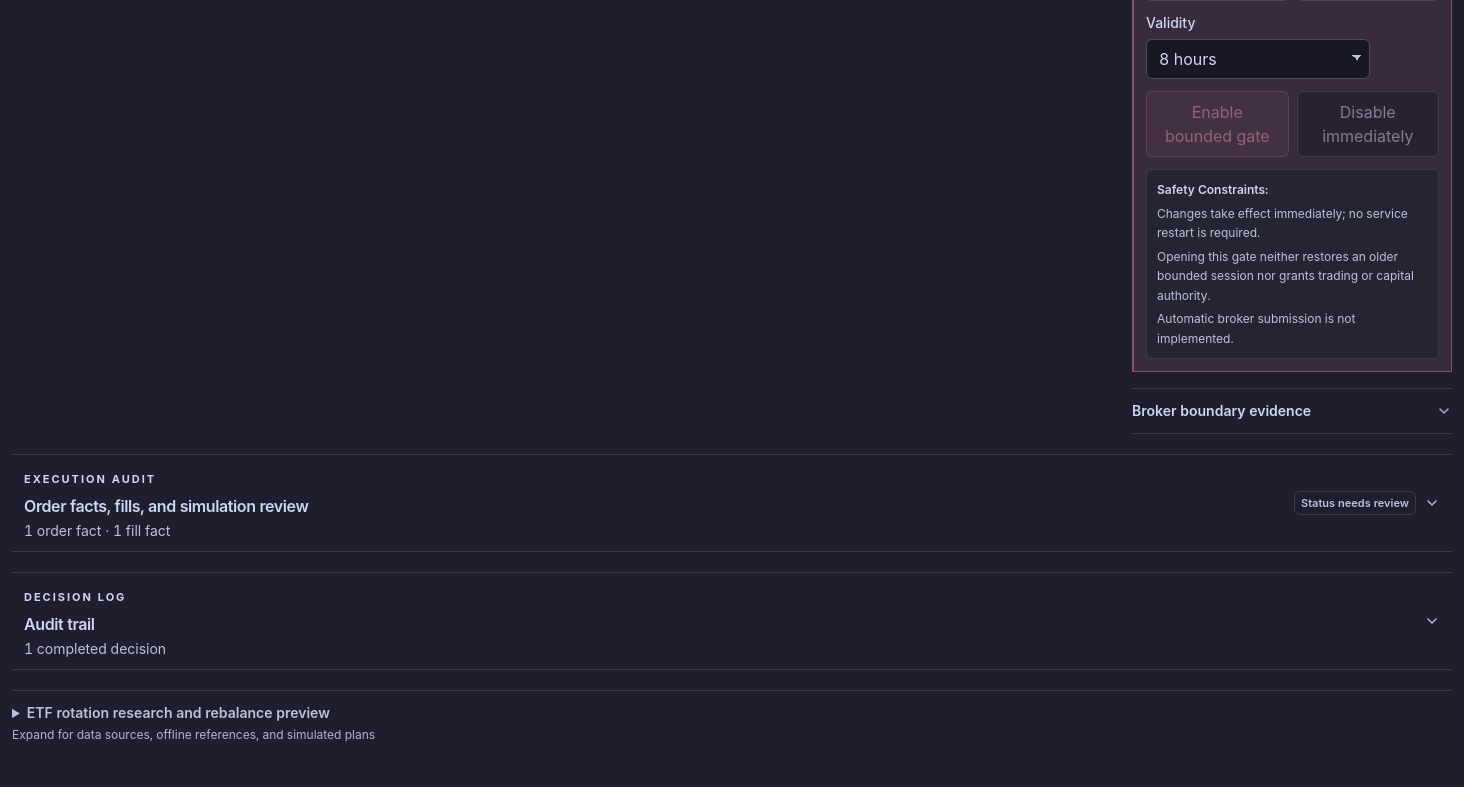
Test: runs daily simulation review from the execution audit panel
(page scrolled)
Expected: the text "Execution audit" is shown, [24,474,156,485]
Step 1. Click the heading that starts with "Execution audit" → {"x": 90, "y": 479}, box [12,455,1452,551]
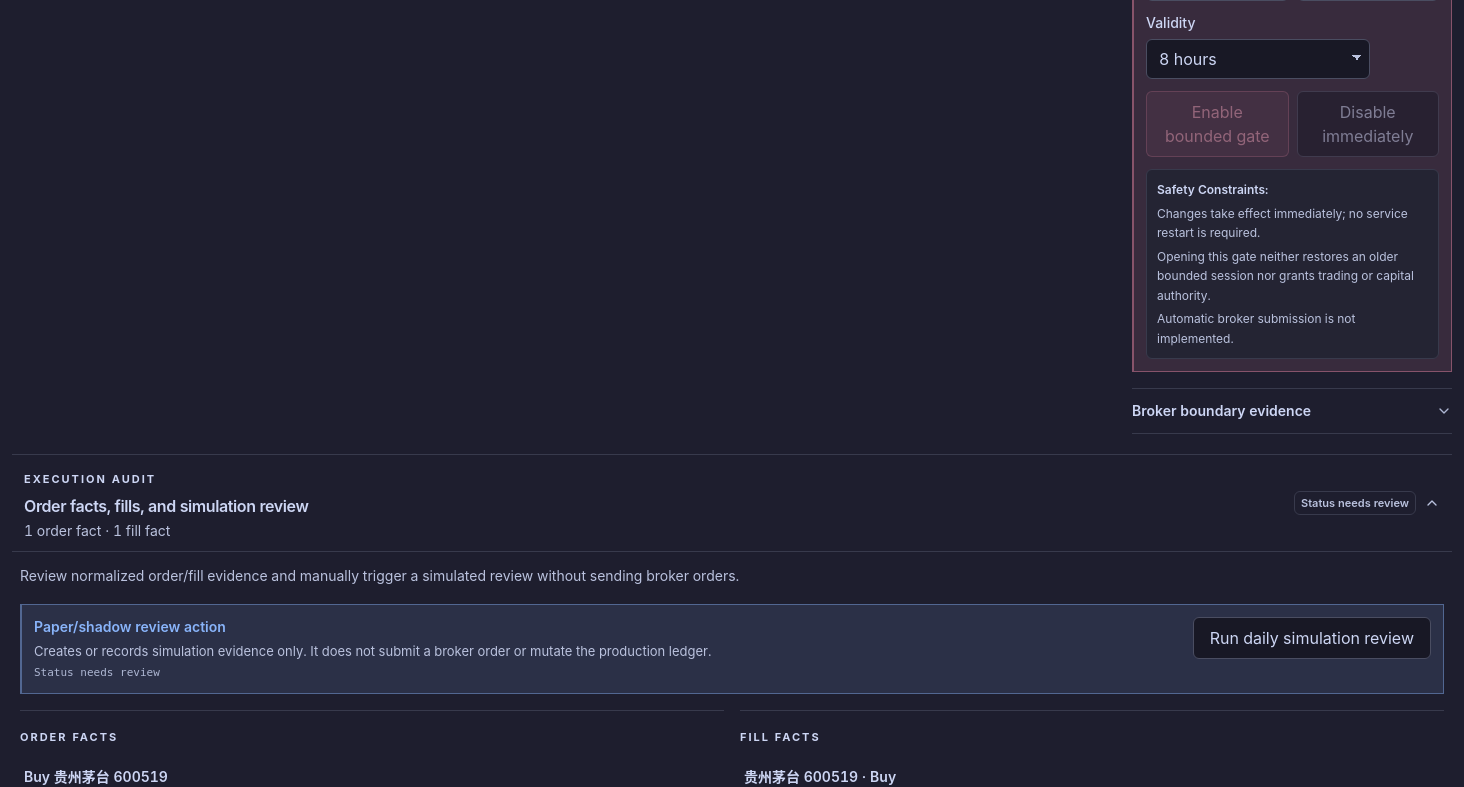
Step 2. Click the button "Run daily simulation review" → {"x": 1312, "y": 638}, box [1193,617,1431,659]
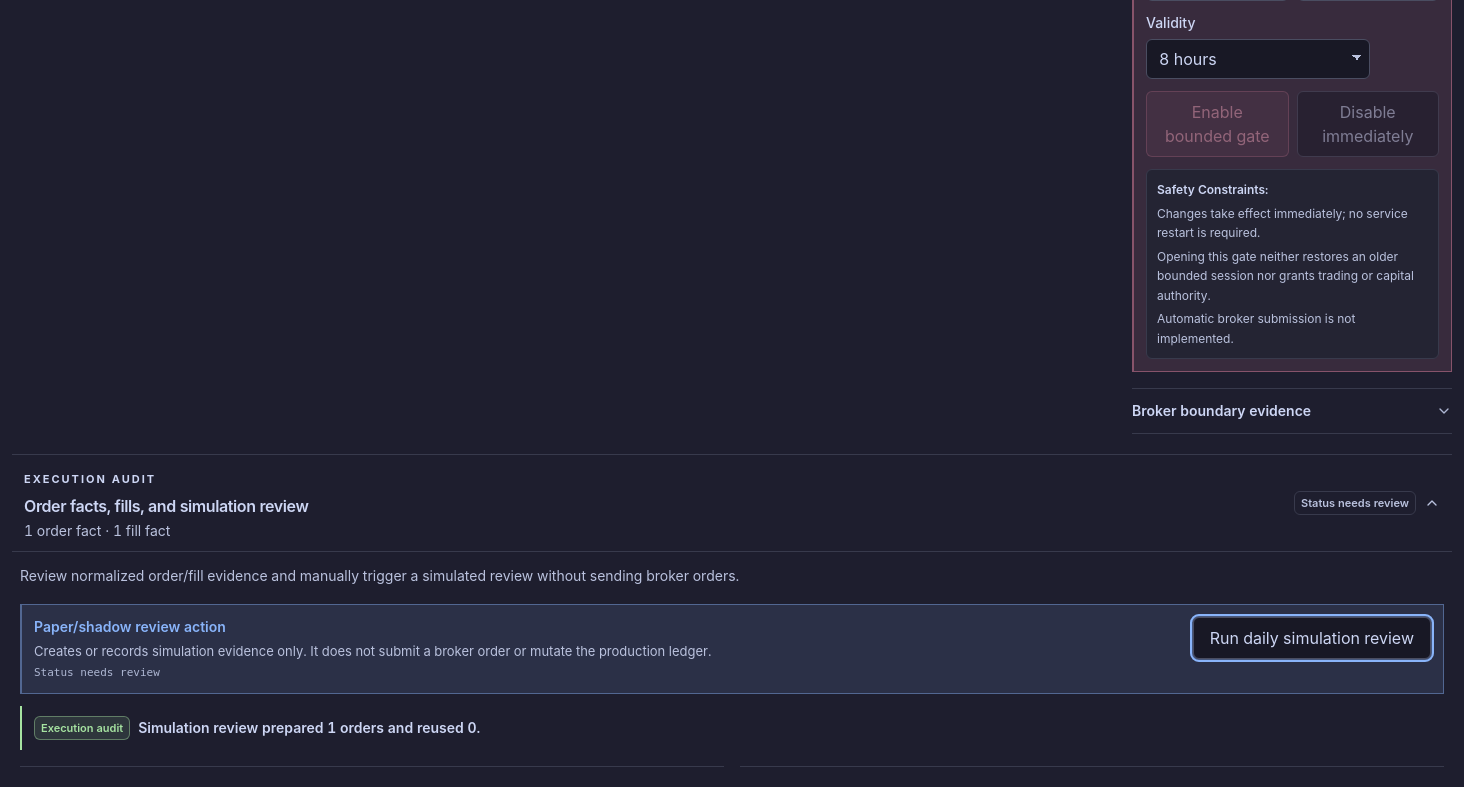
Now the heading "Simulation review prepared 1 orders and reused 0." is shown, box [138,718,480,738]
